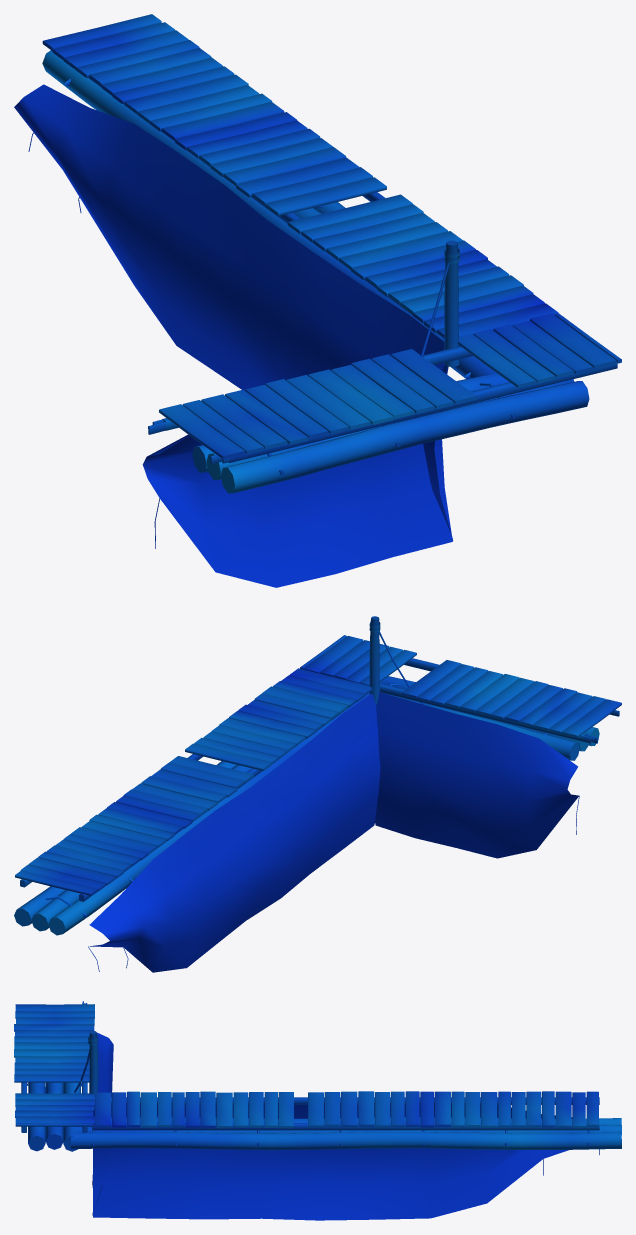
File: net_pen_split_c.glb
The picture shows the model from 3 angles, top to bottom: view 1: azimuth 30°, elevation 25°; view 2: azimuth 150°, elevation 25°; view 3: azimuth 270°, elevation 25°; orthographic projection. The views are drawn at different scales.
Parts seen in each view (by area): view 1: net_pen_split_c; view 2: net_pen_split_c; view 3: net_pen_split_c.
Part boxes in pixels (box(x1,y1,x2,y2)): net_pen_split_c: box(14, 14, 621, 587); net_pen_split_c: box(14, 616, 621, 972); net_pen_split_c: box(14, 1001, 621, 1220).
Size of what is drawn, in the model's own units: 5.48 by 3.75 by 11.04.
